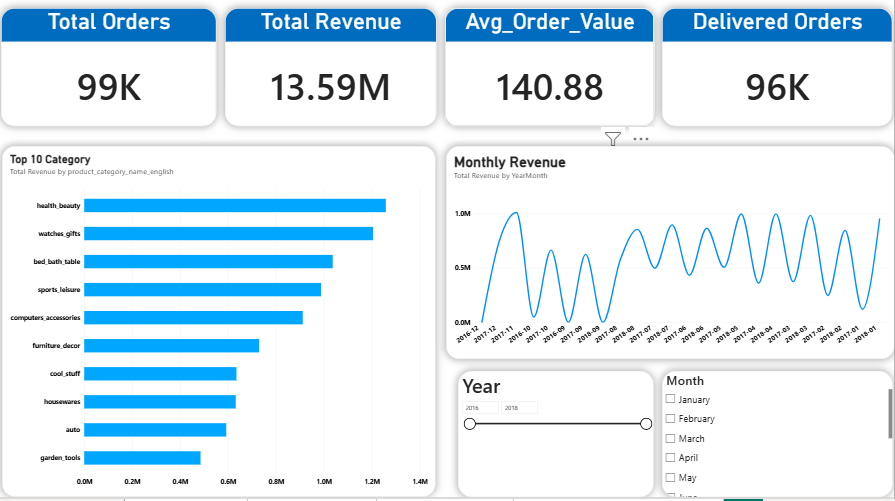

The dashboard page shown, as its layout file describes it:
{"tool":"powerbi","page":{"name":"Sales Overview","canvas":[1920,1080],"ordinal":0},"visuals":[{"type":"cardVisual","title":"Total Orders","fields":{"Data":["Measures (2).Total Orders"]},"box":[8.5,31.9,461.3,253],"z":0},{"type":"cardVisual","title":"Total Revenue","fields":{"Data":["Measures (2).Total Revenue"]},"box":[487.6,31.9,452.8,253],"z":1},{"type":"cardVisual","title":"Avg_Order_Value","fields":{"Data":["Measures (2).Avg_Order_Value"]},"box":[958.1,31.9,448.6,253],"z":2},{"type":"cardVisual","title":"Delivered Orders","fields":{"Data":["Measures (2).Delivered Orders"]},"box":[1424.4,31.9,493.2,253],"z":3},{"type":"clusteredBarChart","title":"Top 10 Category","fields":{"Category":["DimCategory.product_category_name_english"],"Y":["Measures (2).Total Revenue"]},"box":[10.6,327.8,928.1,751.4],"z":5},{"type":"lineChart","title":"Monthly Revenue","fields":{"Category":["DimDate.YearMonth"],"Y":["Measures (2).Total Revenue"]},"box":[960,327.8,960,455.5],"z":6},{"type":"slicer","fields":{"Values":["DimDate.Year"]},"box":[987.7,808.9,419.3,270.3],"z":7},{"type":"slicer","fields":{"Values":["DimDate.Month"]},"box":[1424,808.9,493.8,270.3],"z":8}]}

Visuals, with their boxes in screenshot pixels (x1, y1, x2, y2), scaled from the page's 1920x1080 canvas onto the 895x501 screenshot:
"Total Orders" cardVisual: locate(4, 15, 219, 132)
"Total Revenue" cardVisual: locate(227, 15, 438, 132)
"Avg_Order_Value" cardVisual: locate(447, 15, 656, 132)
"Delivered Orders" cardVisual: locate(664, 15, 894, 132)
"Top 10 Category" clusteredBarChart: locate(5, 152, 438, 500)
"Monthly Revenue" lineChart: locate(448, 152, 894, 363)
slicer - DimDate.Year: locate(460, 375, 656, 500)
slicer - DimDate.Month: locate(664, 375, 894, 500)
